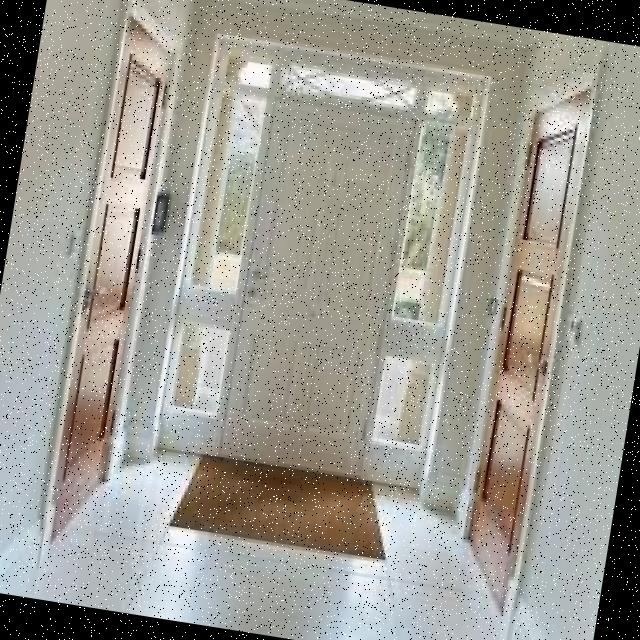Door: (448, 53, 607, 621), (37, 0, 189, 571), (213, 90, 420, 484)
